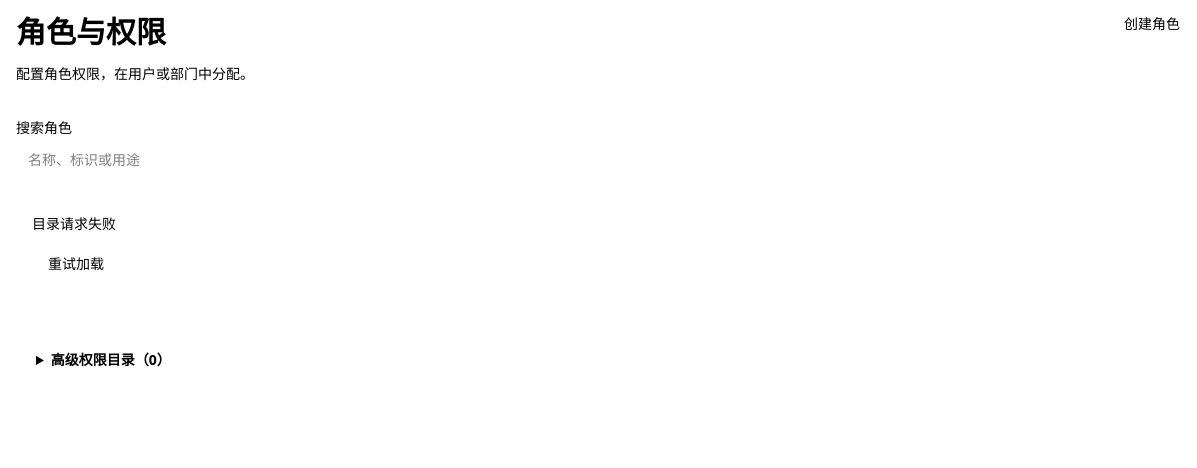
Test: 角色管理页面 › 目录查询失败显示错误与重试，不伪装为空列表
Expected: the message shows "目录请求失败", [32,214,116,233]
Step 1. Click the button "重试加载" → (76, 264), box [32,246,120,282]
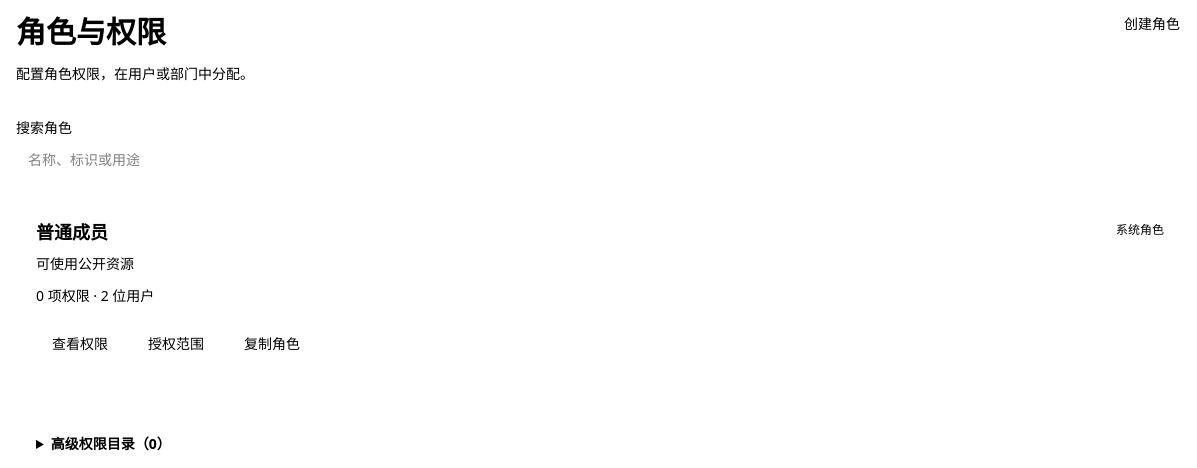
Expected: the heading "普通成员" is shown, [36,218,108,246]
